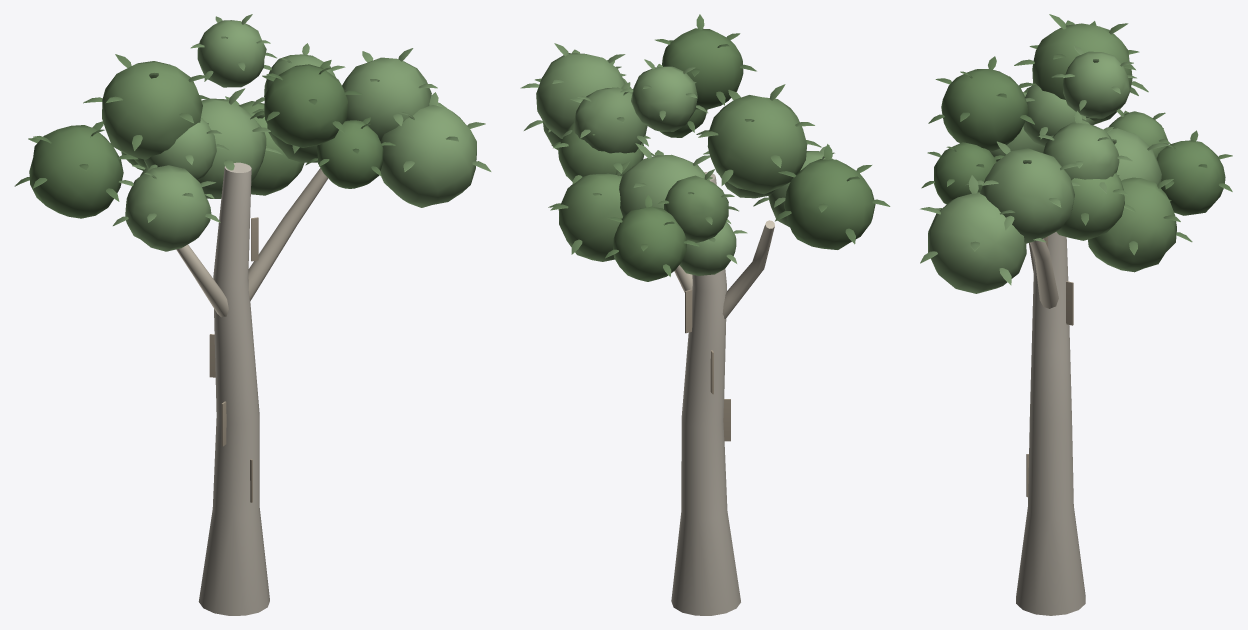
The model's file is tree-gum-hd.glb.
3 renders of one model, left to right at view 1: azimuth 30°, elevation 25°; view 2: azimuth 150°, elevation 25°; view 3: azimuth 270°, elevation 25°, orthographic. The views are drawn at different scales.
Visible parts, largest first — view 1: tree-gum-hd; view 2: tree-gum-hd; view 3: tree-gum-hd.
Boxes of the visible parts, box(x1,y1,x2,y2) form: tree-gum-hd: box(14, 14, 491, 615); tree-gum-hd: box(520, 14, 890, 615); tree-gum-hd: box(920, 14, 1232, 615).
Size of the model in its own units: 5.54 by 7.27 by 3.69.
